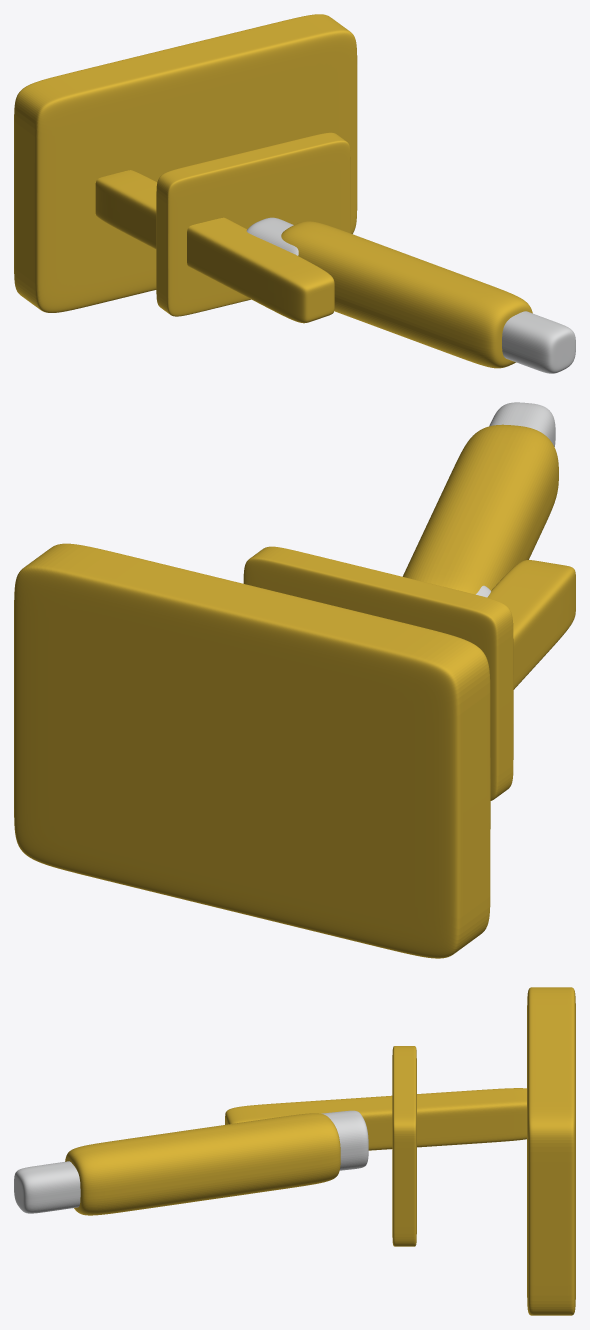
File: laboratory_microscope_sq.glb
The picture shows the model from 3 angles, top to bottom: view 1: azimuth 30°, elevation 25°; view 2: azimuth 150°, elevation 25°; view 3: azimuth 270°, elevation 25°; orthographic projection. The views are drawn at different scales.
Parts seen in each view (by area): view 1: superquadric_0, superquadric_2, superquadric_3, superquadric_1, superquadric_4, superquadric_5; view 2: superquadric_0, superquadric_3, superquadric_2, superquadric_1, superquadric_4; view 3: superquadric_3, superquadric_0, superquadric_1, superquadric_2, superquadric_4, superquadric_5.
Boxes of the visible parts, <box> form: superquadric_0: <box>14,14,357,312</box>; superquadric_2: <box>156,132,350,316</box>; superquadric_3: <box>281,221,532,368</box>; superquadric_1: <box>95,170,334,323</box>; superquadric_4: <box>502,311,575,373</box>; superquadric_5: <box>246,217,298,255</box>; superquadric_0: <box>14,543,490,958</box>; superquadric_3: <box>403,424,558,594</box>; superquadric_2: <box>243,546,513,800</box>; superquadric_1: <box>487,560,575,689</box>; superquadric_4: <box>489,402,555,446</box>; superquadric_3: <box>65,1113,340,1215</box>; superquadric_0: <box>527,987,575,1315</box>; superquadric_1: <box>225,1088,526,1150</box>; superquadric_2: <box>392,1046,416,1246</box>; superquadric_4: <box>14,1161,80,1213</box>; superquadric_5: <box>321,1110,368,1170</box>.
Bounding box in the file's own units: 0.6098 × 0.392 × 1.
